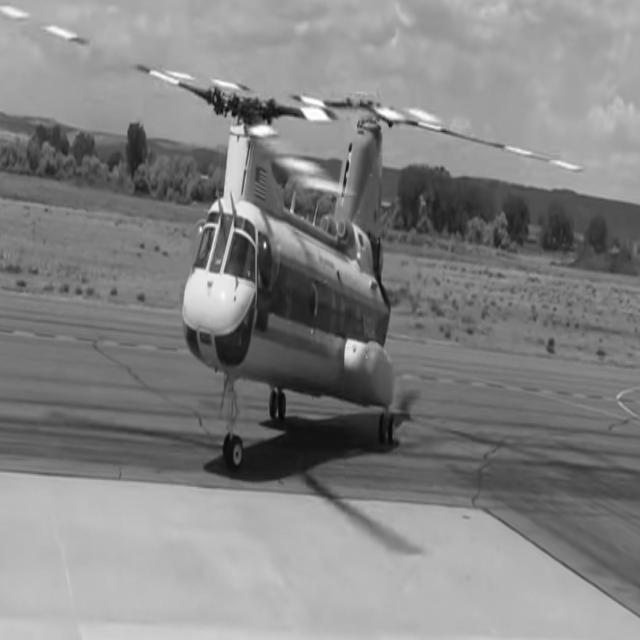Helicopter: (2, 6, 562, 470)
